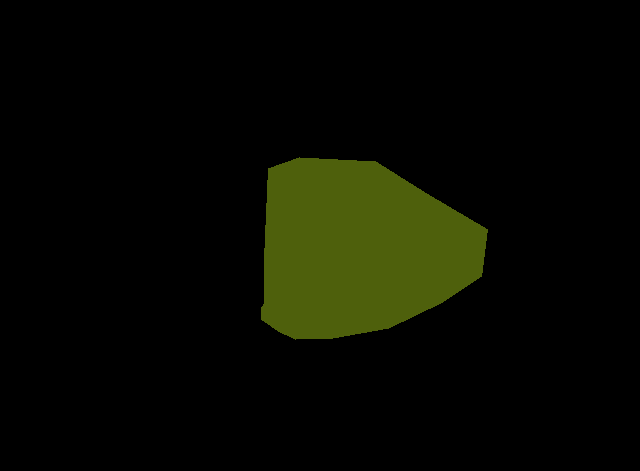Train: (261, 157, 488, 340)
